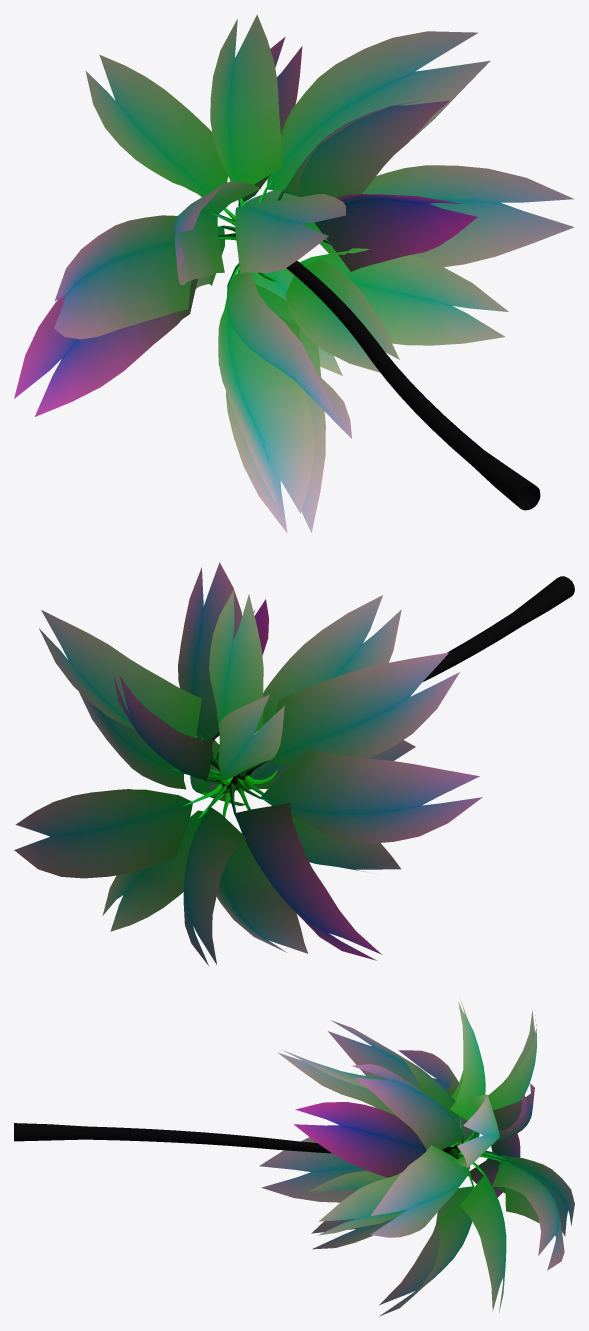
The model's file is Tree1.fbx.
3 renders of one model, top to bottom at view 1: azimuth 30°, elevation 25°; view 2: azimuth 150°, elevation 25°; view 3: azimuth 270°, elevation 25°, orthographic. The views are drawn at different scales.
Visible parts, largest first — view 1: polySurface25; view 2: polySurface25; view 3: polySurface25.
Part boxes in pixels (x1,y1,x2,y2): polySurface25: [14, 14, 574, 533]; polySurface25: [14, 562, 574, 965]; polySurface25: [14, 998, 574, 1316].
Size of the model in its own units: 43380 by 39221 by 62839.
